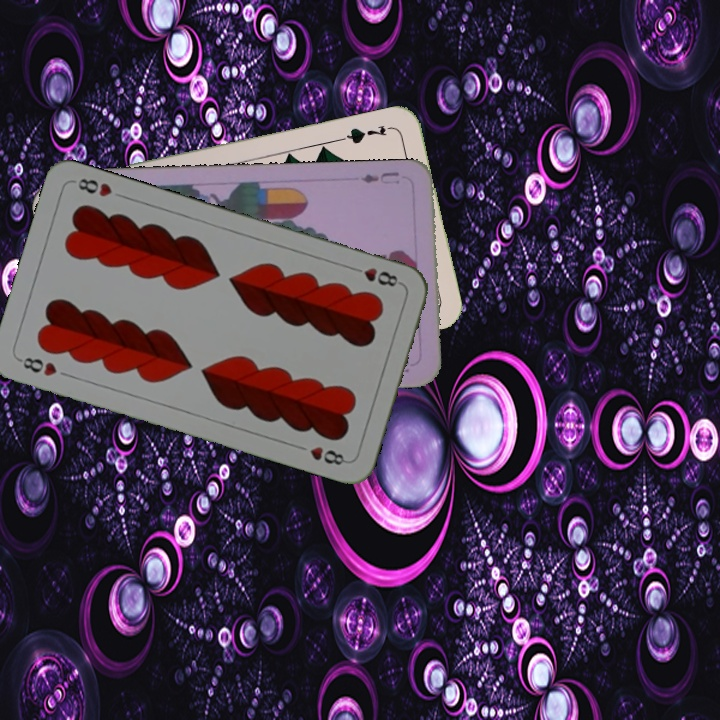EU: (357, 167, 402, 187)
G7: (339, 121, 398, 147)
H8: (346, 262, 404, 290), (14, 353, 60, 379)
